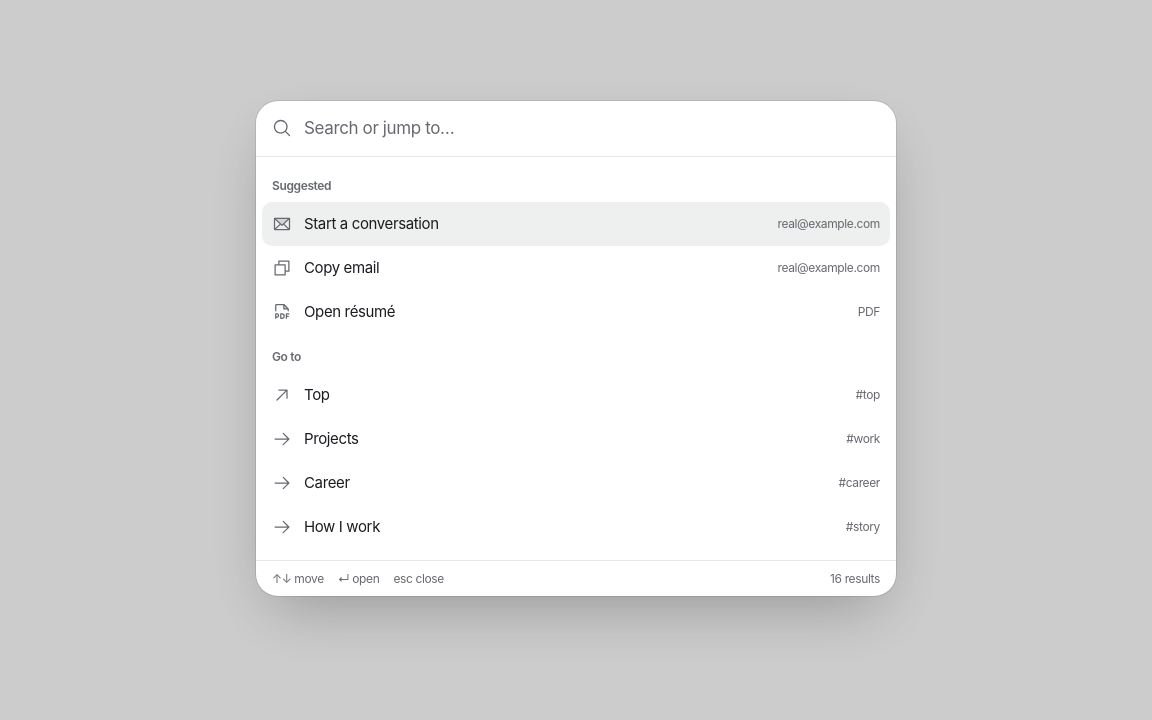
Test: CommandPalette › announces a one-source answer as "1 source" (T12 m1)
Type "what languages does he speak?" into the dropdown at (592, 128), box [304,101,880,156]
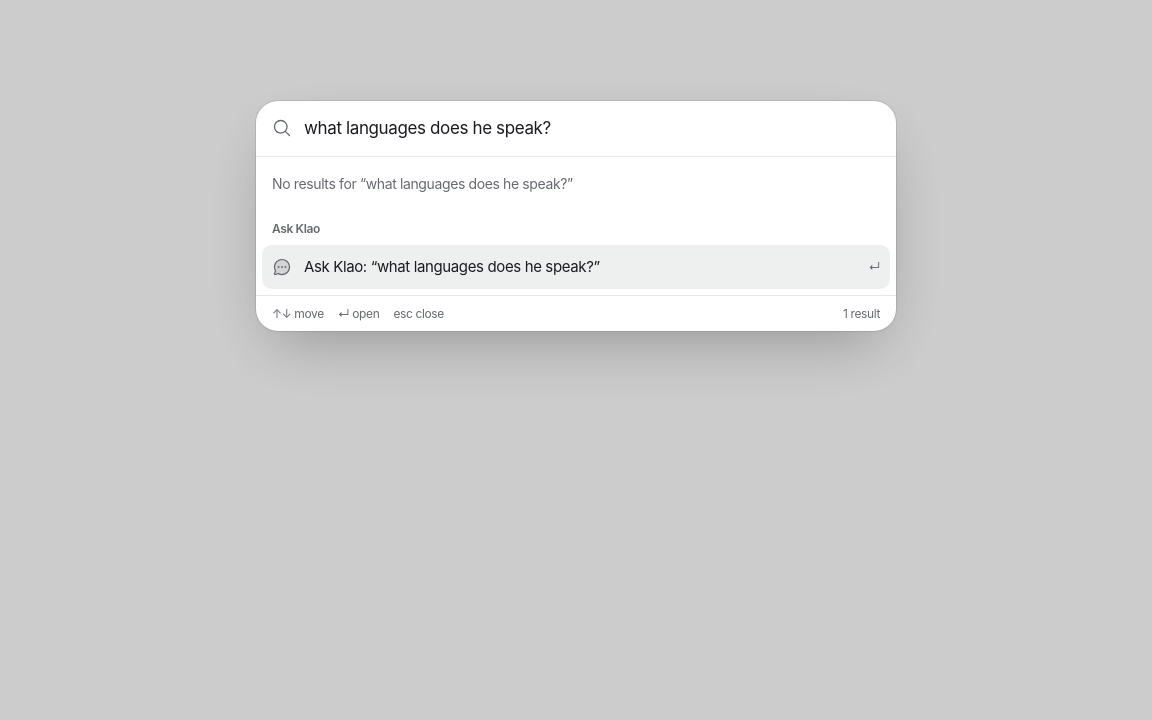
Press End in the dropdown, box [304,101,880,156]
Press Enter in the dropdown, box [304,101,880,156]
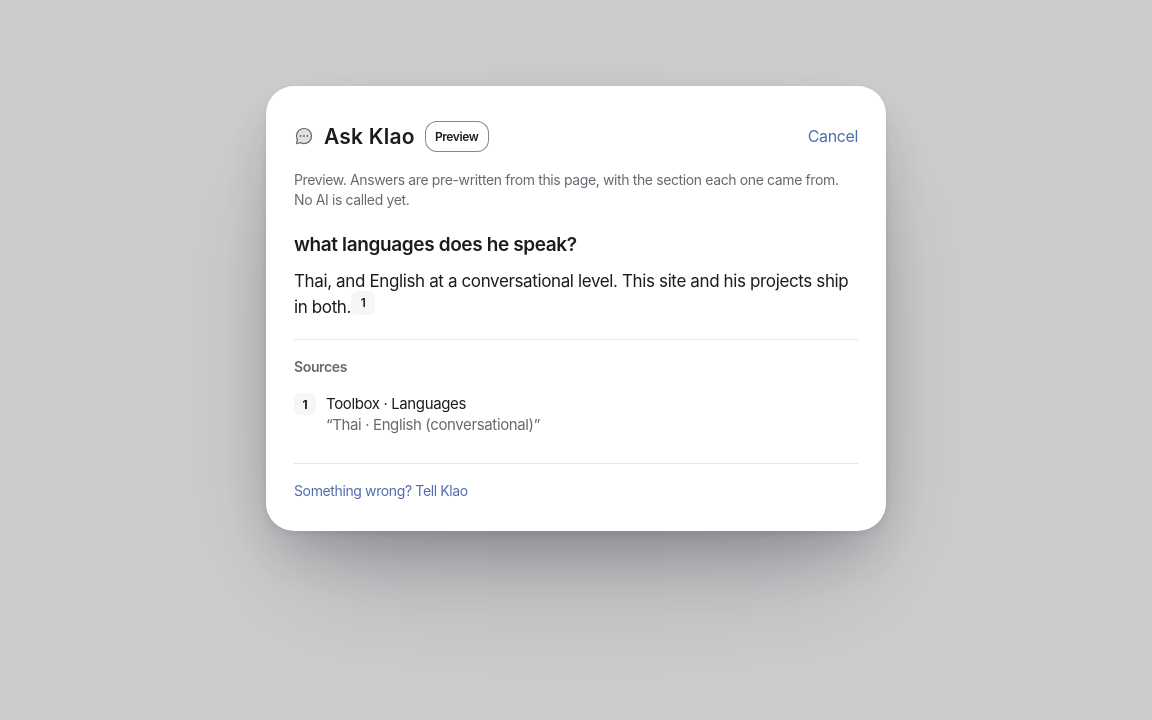
Result: the number of buttons "1" is 1 at [351,291,375,315]
